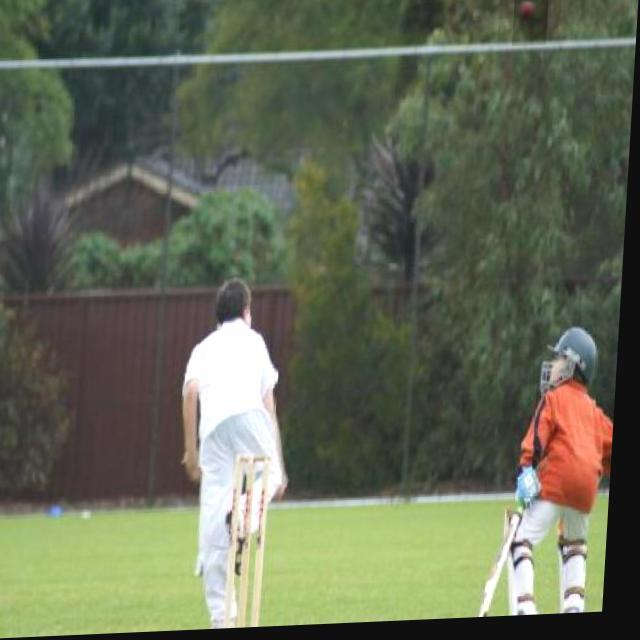-: (513, 0, 550, 51)
